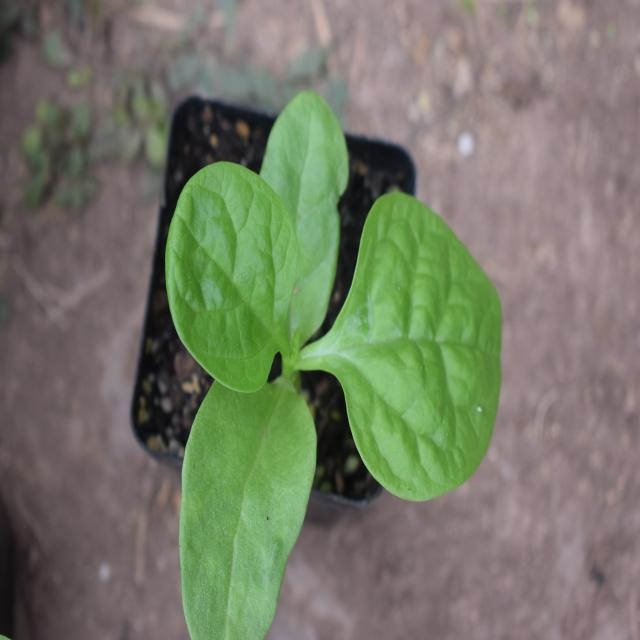Ceylon spinach: (170, 113, 500, 624)
